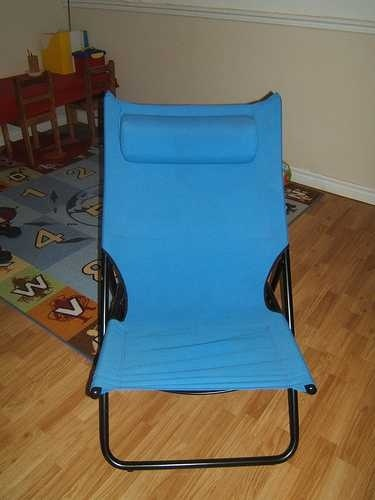obstacle: (88, 93, 315, 469)
